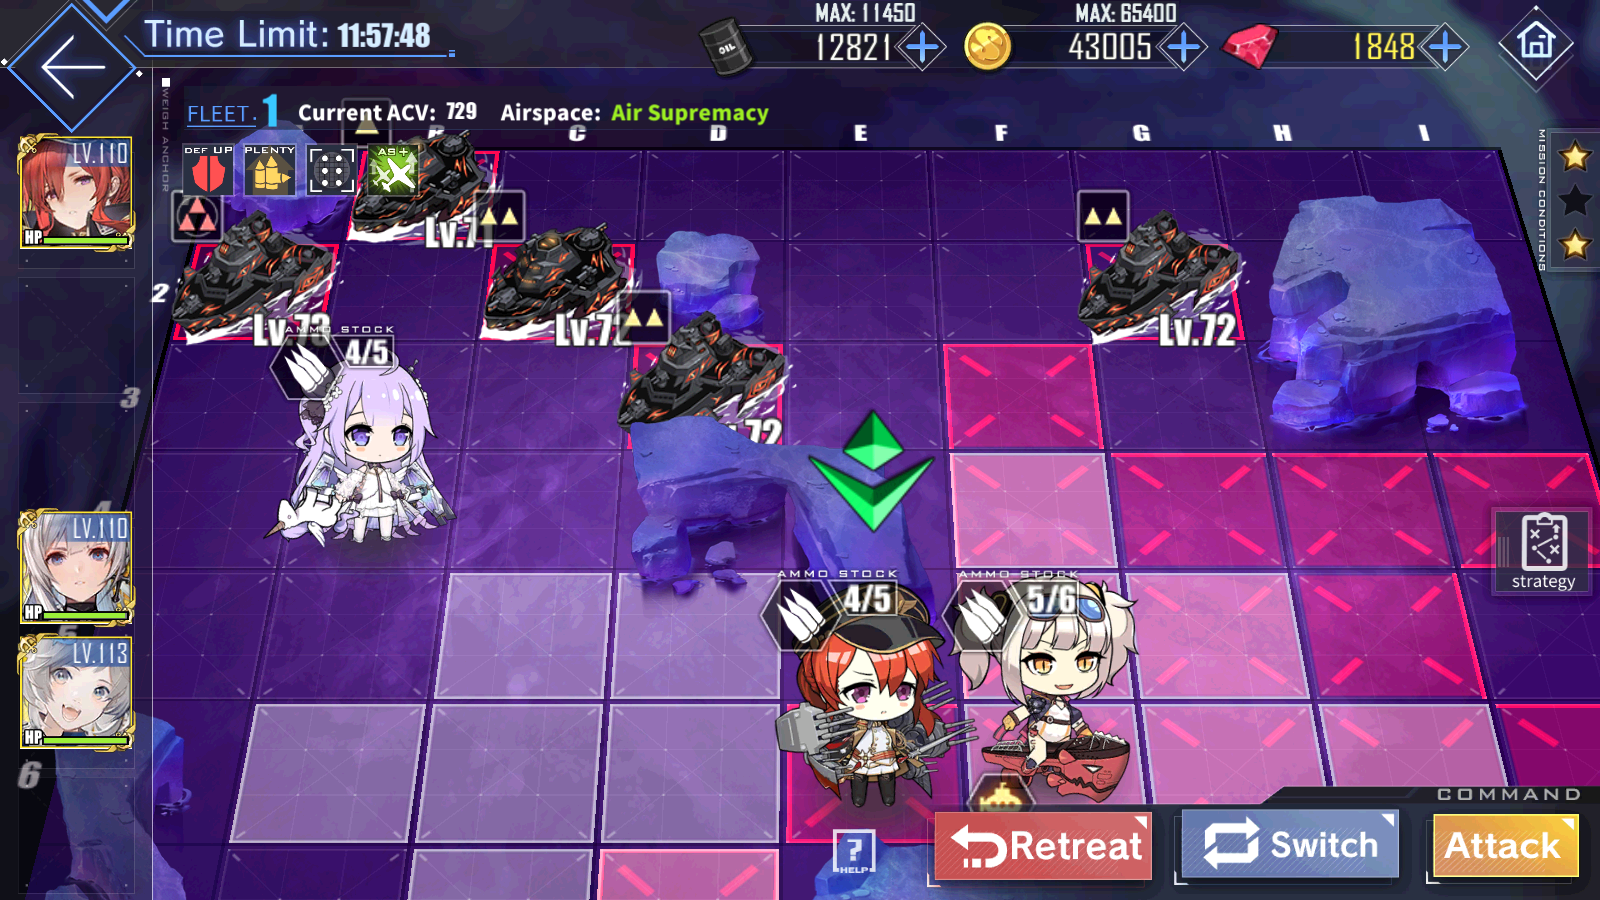enemy: (1076, 188, 1242, 343), (620, 291, 784, 447), (475, 189, 630, 347), (173, 190, 330, 338)
